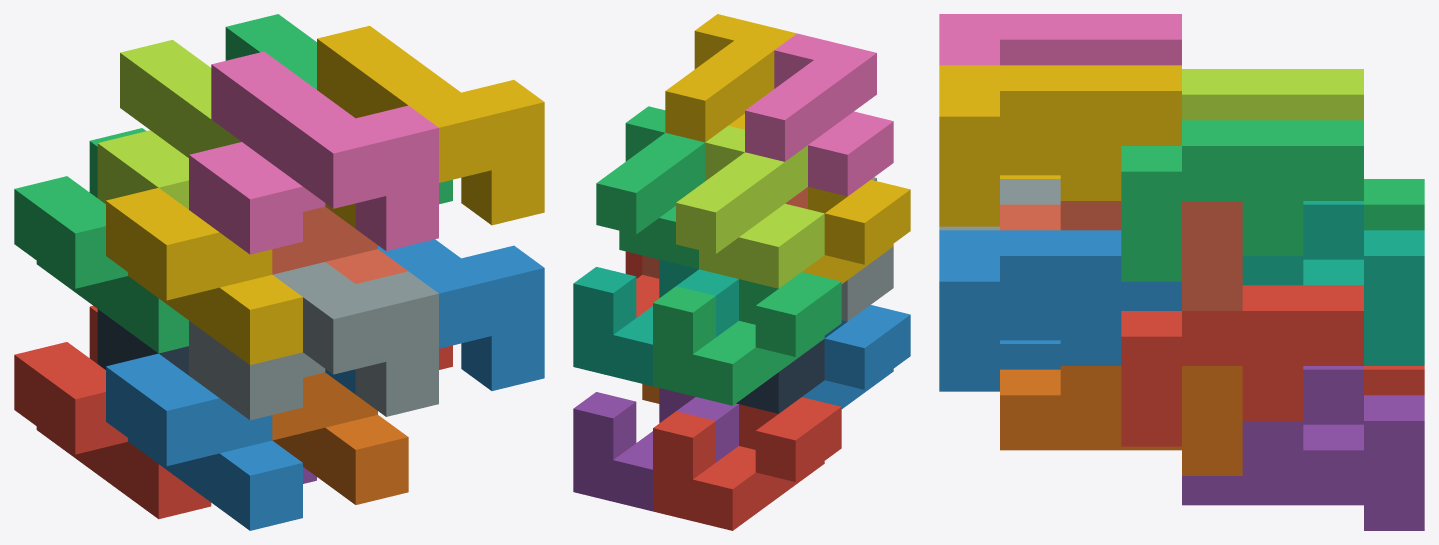
File: tiling.obj
The picture shows the model from 3 angles, left to right: view 1: azimuth 30°, elevation 25°; view 2: azimuth 150°, elevation 25°; view 3: azimuth 270°, elevation 25°; orthographic projection. The views are drawn at different scales.
Visible parts, largest first — view 1: copy_2_domain_4, copy_2_domain_2, copy_2_domain_8, copy_1_domain_2, copy_1_domain_4, copy_2_domain_6, copy_1_domain_1, copy_2_domain_3, copy_1_domain_3, copy_1_domain_6, copy_1_domain_8, copy_2_domain_7 (+1 smaller); view 2: copy_1_domain_3, copy_1_domain_1, copy_2_domain_4, copy_2_domain_3, copy_2_domain_7, copy_1_domain_7, copy_1_domain_5, copy_2_domain_8, copy_1_domain_4, copy_1_domain_2, copy_2_domain_1, copy_2_domain_2 (+2 smaller); view 3: copy_2_domain_8, copy_2_domain_6, copy_2_domain_7, copy_2_domain_5, copy_1_domain_5, copy_1_domain_6, copy_1_domain_7, copy_2_domain_4, copy_1_domain_8, copy_2_domain_3, copy_1_domain_3, copy_2_domain_2 (+2 smaller).
Part boxes in pixels (bbox=[...]): copy_2_domain_4: bbox=[189, 51, 438, 254]; copy_2_domain_2: bbox=[189, 262, 438, 420]; copy_2_domain_8: bbox=[317, 25, 544, 228]; copy_1_domain_2: bbox=[106, 353, 302, 530]; copy_1_domain_4: bbox=[106, 188, 302, 364]; copy_2_domain_6: bbox=[325, 239, 544, 394]; copy_1_domain_1: bbox=[14, 306, 211, 519]; copy_2_domain_3: bbox=[97, 40, 241, 209]; copy_1_domain_3: bbox=[14, 128, 188, 353]; copy_1_domain_6: bbox=[272, 372, 408, 504]; copy_1_domain_8: bbox=[272, 206, 407, 283]; copy_2_domain_7: bbox=[225, 14, 452, 204]; copy_1_domain_3: bbox=[653, 272, 841, 405]; copy_1_domain_1: bbox=[653, 397, 841, 530]; copy_2_domain_4: bbox=[745, 33, 893, 196]; copy_2_domain_3: bbox=[676, 125, 824, 288]; copy_2_domain_7: bbox=[596, 106, 705, 269]; copy_1_domain_7: bbox=[573, 259, 738, 386]; copy_1_domain_5: bbox=[573, 388, 738, 511]; copy_2_domain_8: bbox=[665, 14, 796, 142]; copy_1_domain_4: bbox=[802, 180, 910, 283]; copy_1_domain_2: bbox=[802, 305, 910, 408]; copy_2_domain_1: bbox=[736, 339, 824, 413]; copy_2_domain_2: bbox=[841, 177, 893, 321]; copy_2_domain_8: bbox=[939, 65, 1181, 226]; copy_2_domain_6: bbox=[939, 230, 1181, 391]; copy_2_domain_7: bbox=[1121, 120, 1363, 281]; copy_2_domain_5: bbox=[1121, 285, 1363, 446]; copy_1_domain_5: bbox=[1182, 366, 1424, 530]; copy_1_domain_6: bbox=[1000, 366, 1242, 475]; copy_1_domain_7: bbox=[1242, 201, 1424, 365]; copy_2_domain_4: bbox=[939, 14, 1181, 65]; copy_1_domain_8: bbox=[1000, 201, 1242, 310]; copy_2_domain_3: bbox=[1182, 69, 1363, 120]; copy_1_domain_3: bbox=[1364, 179, 1424, 230]; copy_2_domain_2: bbox=[939, 179, 1060, 230].
Size of the model in its own units: 6 by 8 by 8.
